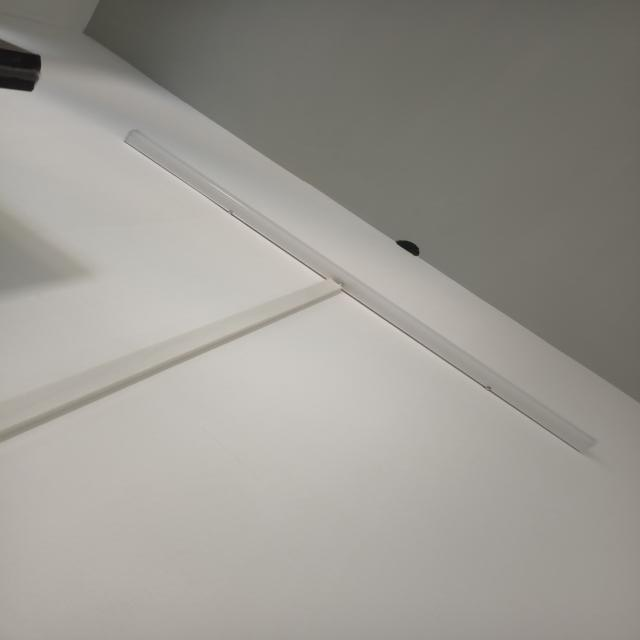fluorescent tube: (113, 119, 604, 461)
